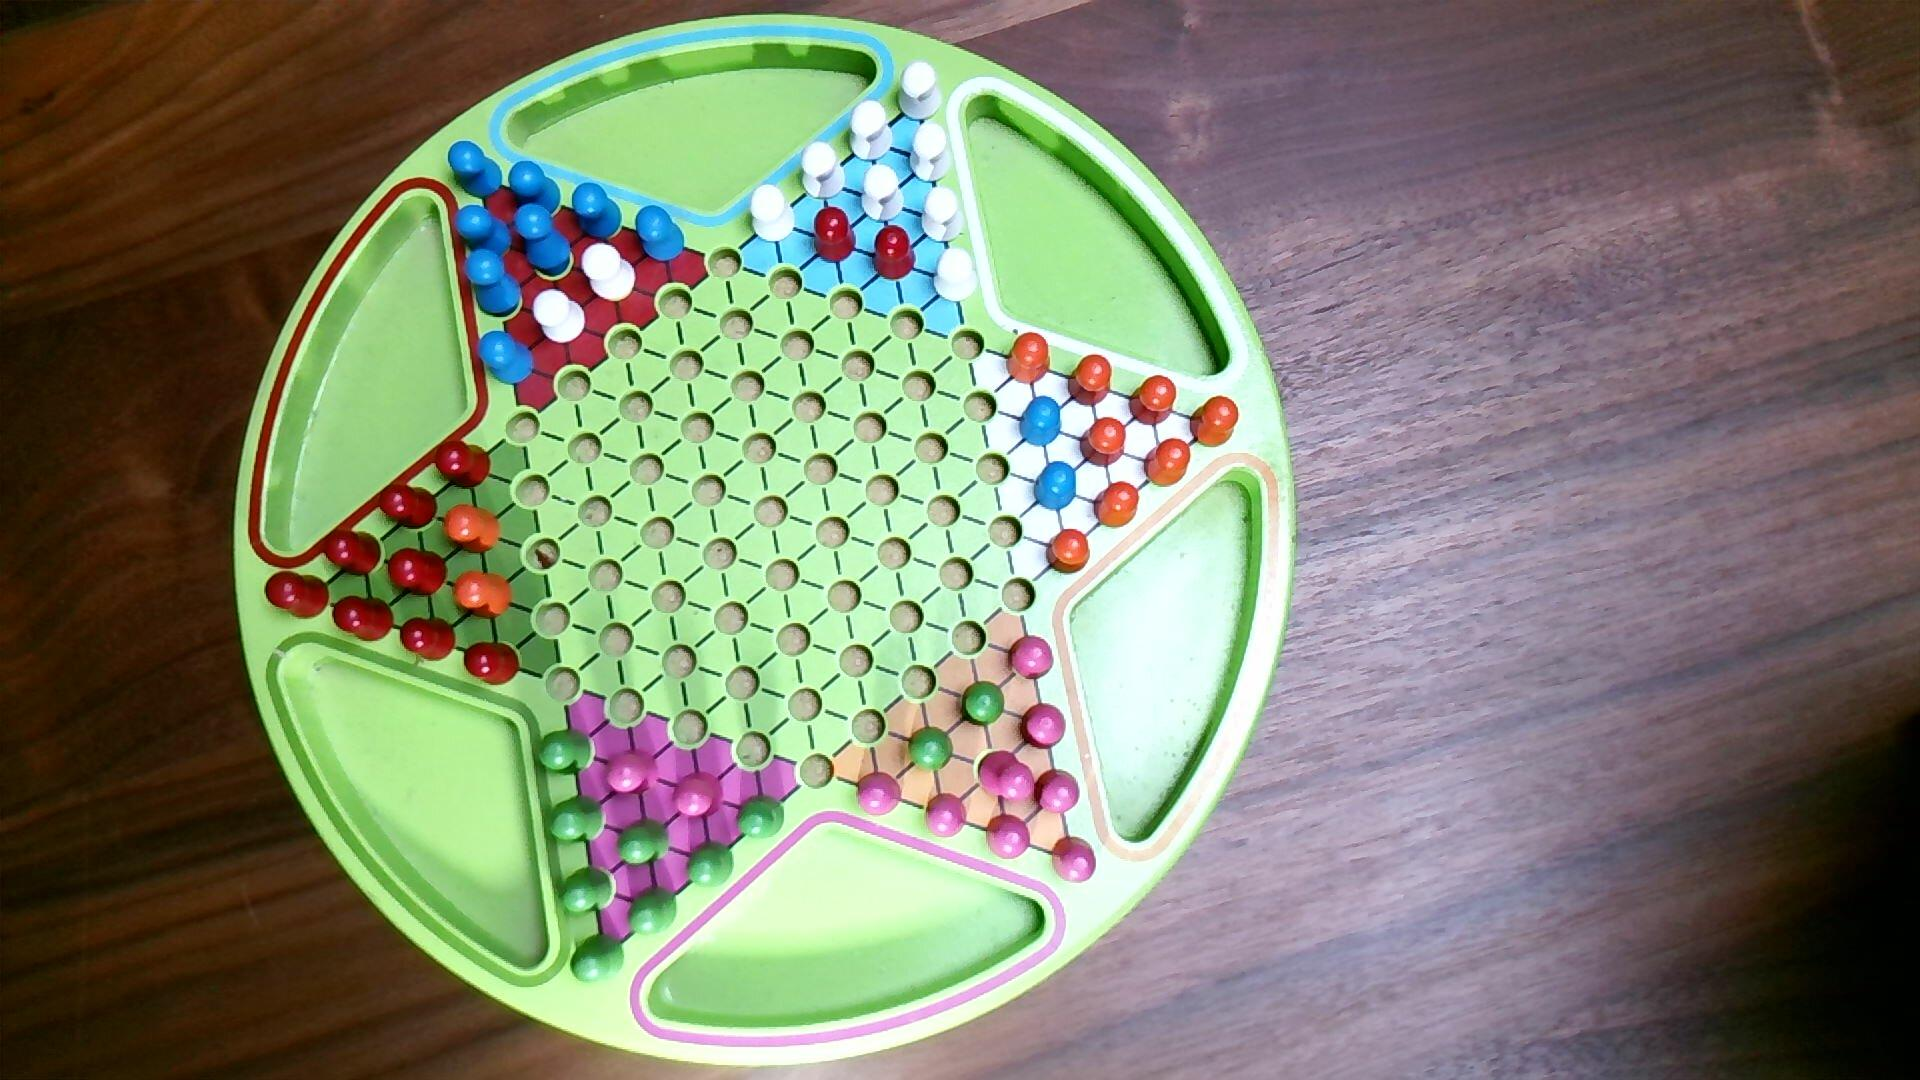B: (462, 247, 525, 319), (512, 202, 572, 272), (476, 328, 537, 389), (451, 202, 514, 260), (446, 138, 504, 202), (506, 160, 564, 222), (570, 179, 626, 243), (636, 203, 688, 265), (1033, 458, 1079, 514), (1018, 394, 1064, 448)
G: (545, 793, 607, 847), (558, 864, 616, 919), (615, 815, 673, 869), (568, 932, 628, 985), (625, 884, 680, 939), (535, 728, 593, 778), (684, 837, 737, 891), (735, 793, 787, 843), (906, 723, 956, 775), (957, 679, 1007, 729)
O: (452, 568, 516, 622), (442, 502, 502, 556), (1189, 393, 1242, 450), (1142, 435, 1193, 491), (1127, 373, 1179, 429), (1065, 351, 1114, 409), (1005, 330, 1054, 386), (1079, 414, 1127, 469), (1092, 479, 1142, 531), (1044, 526, 1095, 578)
R: (262, 568, 332, 622), (385, 545, 451, 600), (431, 436, 495, 493), (320, 526, 384, 580), (331, 593, 397, 644), (460, 638, 524, 690), (375, 483, 440, 531), (400, 615, 459, 665), (812, 204, 860, 266), (870, 223, 918, 284)
R2: (975, 746, 1036, 804), (603, 746, 662, 799), (670, 767, 727, 822), (1050, 833, 1100, 887), (1019, 700, 1069, 752), (855, 769, 905, 819), (1006, 634, 1056, 684), (985, 811, 1034, 862), (1035, 766, 1083, 818), (924, 789, 971, 841)
W: (580, 240, 640, 305), (531, 287, 588, 345), (847, 98, 895, 164), (909, 119, 956, 185), (748, 183, 798, 245), (799, 138, 848, 202), (897, 59, 945, 121), (932, 245, 981, 306), (860, 162, 906, 225), (920, 185, 968, 244)
